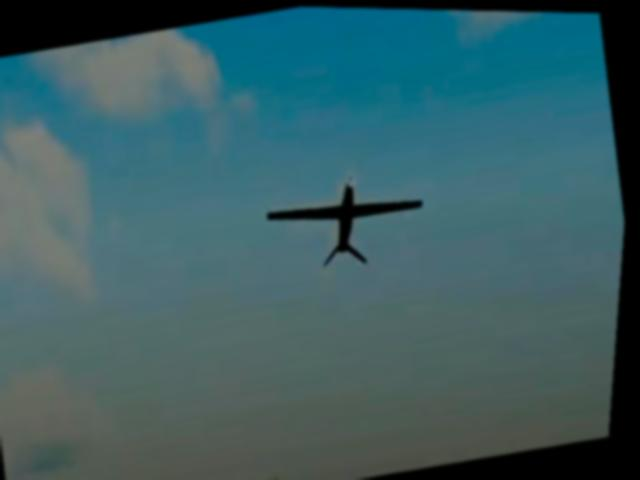iha: (256, 152, 443, 281)
